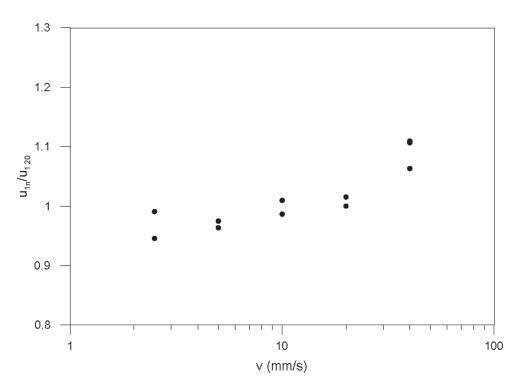axis: (57, 321, 501, 337), (56, 22, 76, 337)
point: (404, 136, 417, 149), (276, 194, 290, 205), (276, 207, 289, 218), (150, 233, 161, 243), (341, 202, 352, 212), (341, 192, 353, 201), (405, 164, 416, 173), (150, 207, 160, 216), (214, 217, 224, 225), (214, 224, 224, 231)
